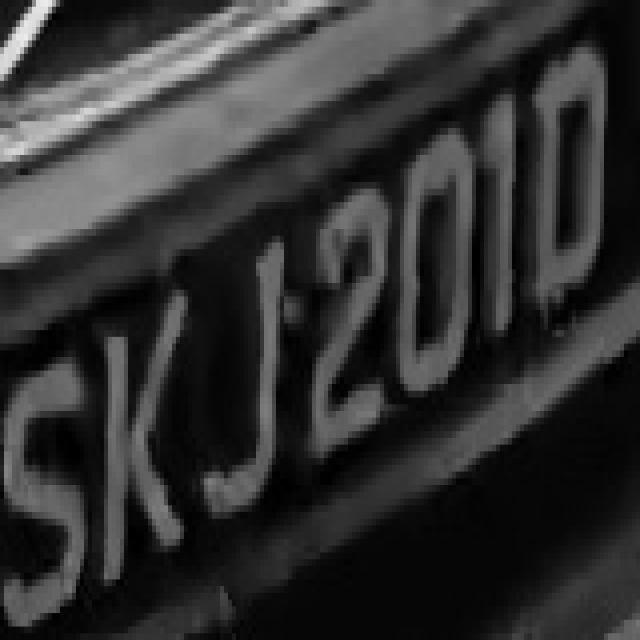0: (392, 114, 480, 411)
1: (484, 40, 528, 364)
2: (288, 155, 396, 465)
D: (528, 34, 612, 316)
J: (196, 216, 284, 539)
K: (96, 269, 188, 593)
S: (0, 316, 88, 640)
